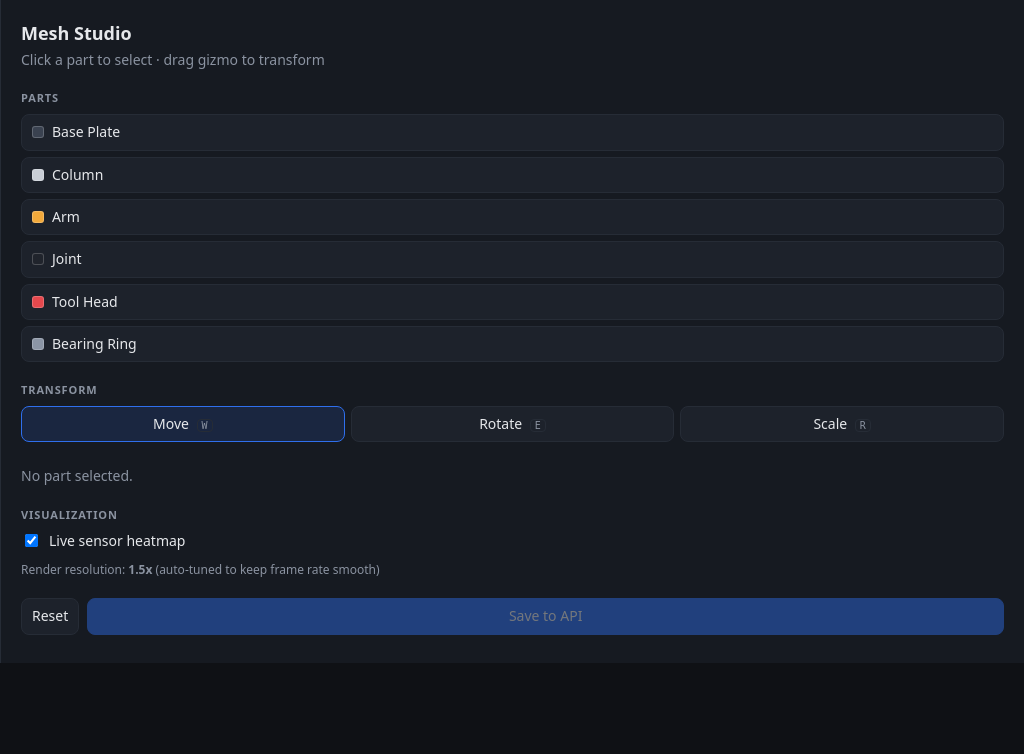
Test: <ControlPanel> › selecting a part shows its transform readout and material controls
The width and height of the screenshot is (1024, 754).
Click the button "Arm". click: (38, 217)
box: [21,199,1004,235]
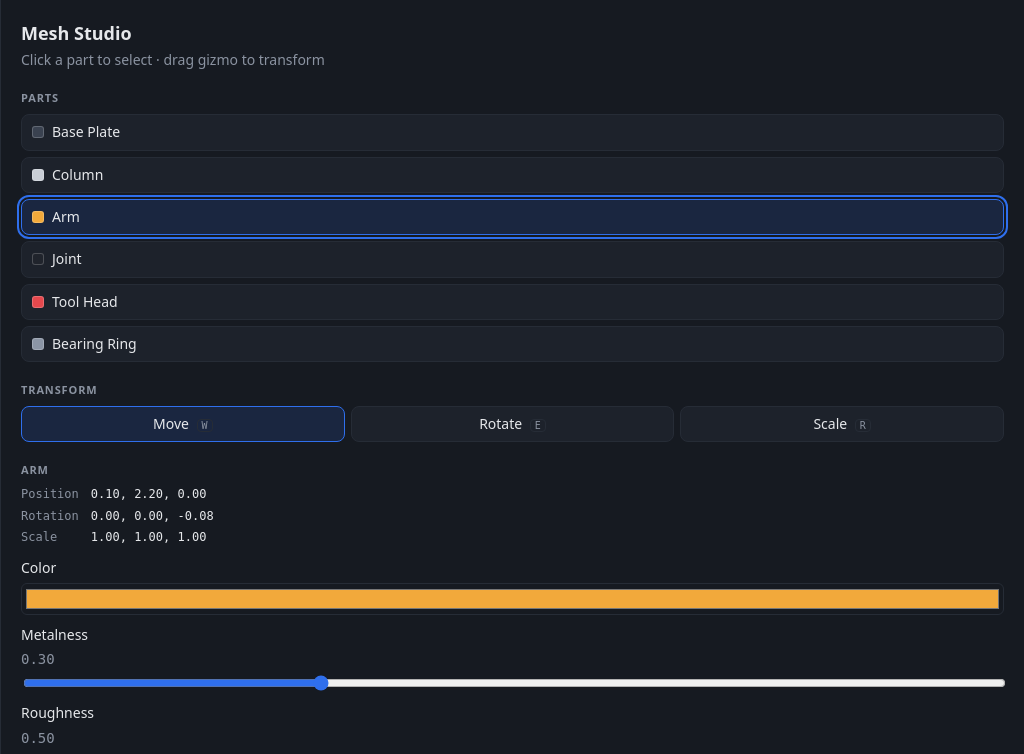
Expected: the heading "Arm" is shown, [21,462,49,477]
Expected: the text with test id "readout-position" reads "0.10, 2.20, 0.00", [91,487,206,501]
